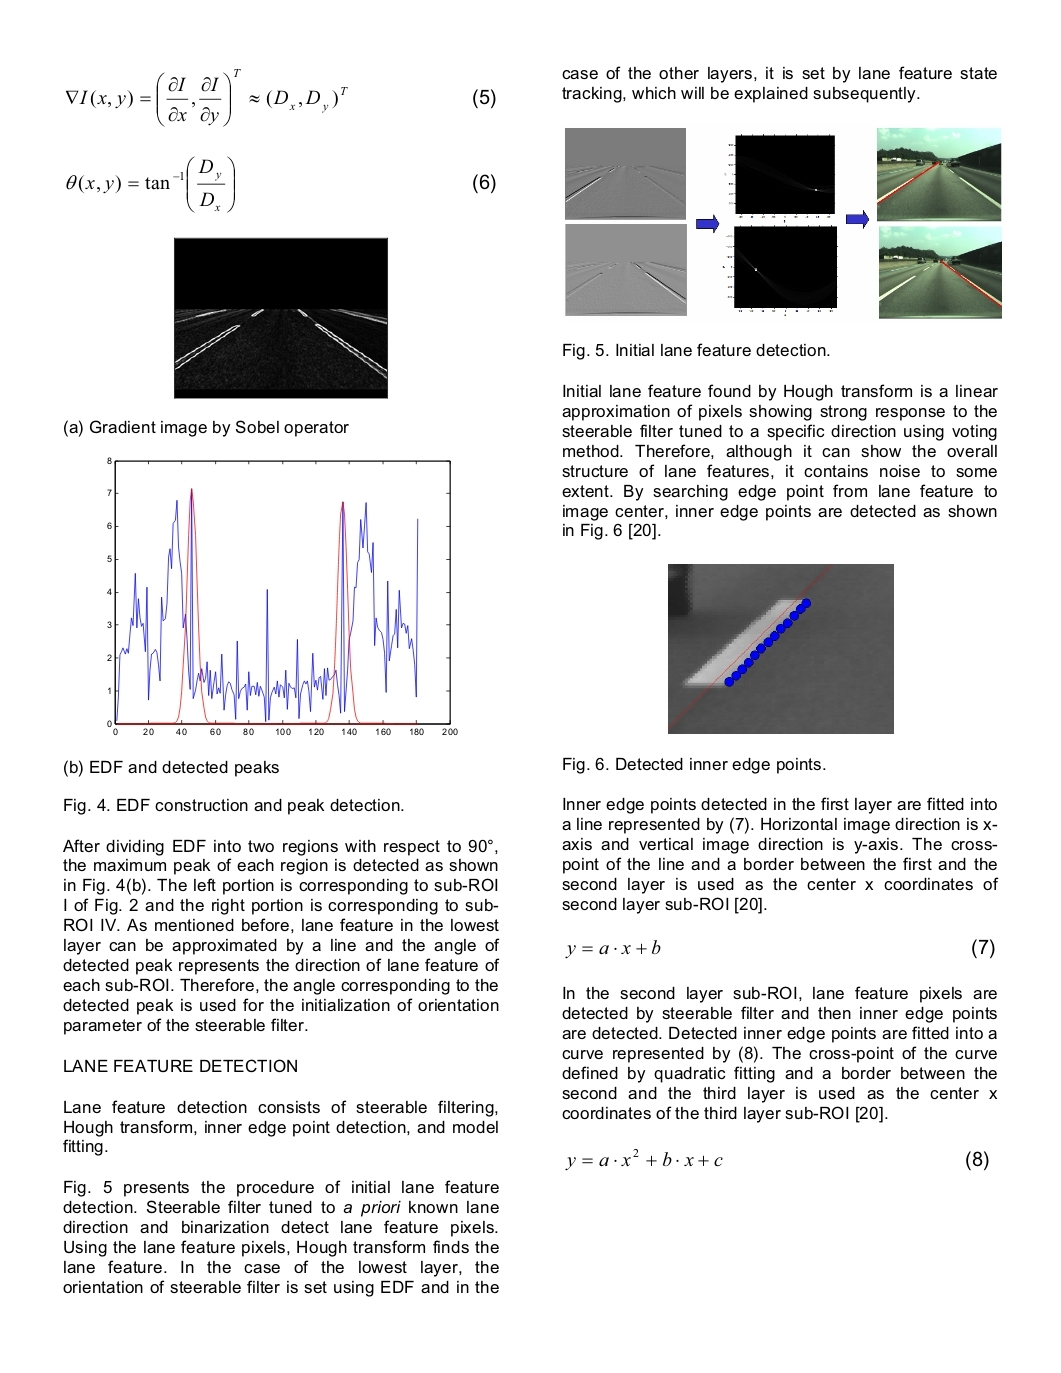figure: (107, 456, 457, 736), (565, 127, 1001, 319), (668, 562, 893, 734), (174, 236, 387, 399)
formula: (66, 68, 495, 127), (66, 155, 495, 213), (565, 1148, 987, 1171), (565, 938, 994, 960)
